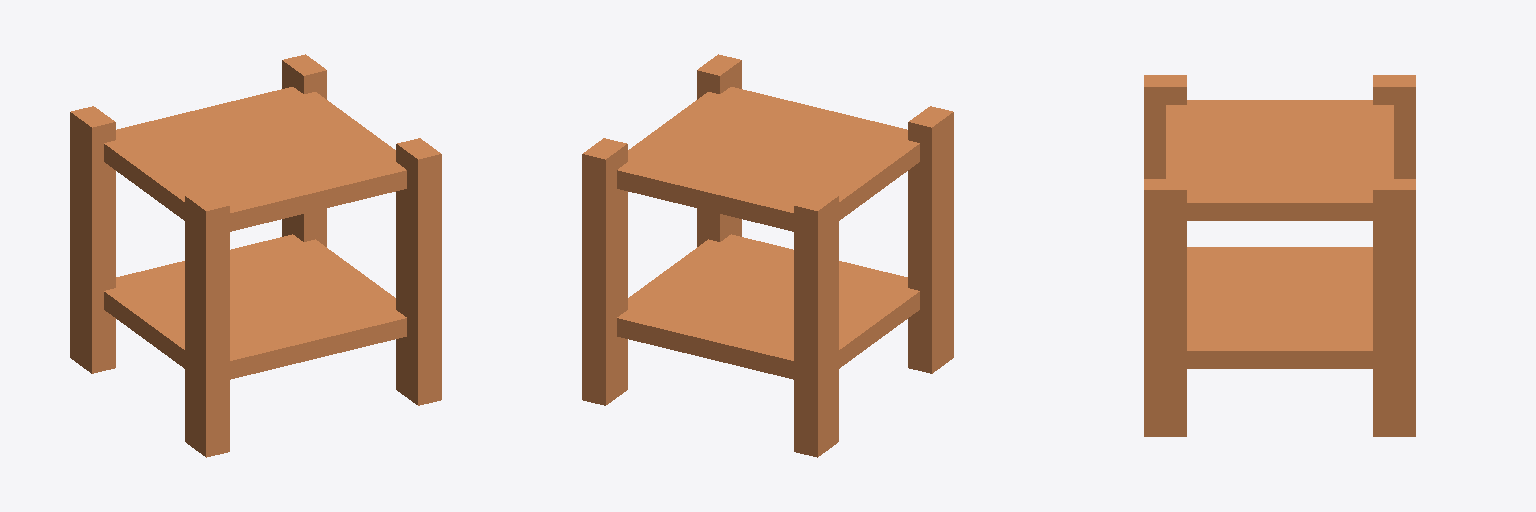
Rendered from bookcaseOpenLow.obj.
The picture shows the model from 3 angles: view 1: azimuth 30°, elevation 25°; view 2: azimuth 150°, elevation 25°; view 3: azimuth 270°, elevation 25°; orthographic projection.
Parts seen in each view (by area): view 1: bookcaseOpenLow; view 2: bookcaseOpenLow; view 3: bookcaseOpenLow.
Part boxes in pixels (left/top/right/bottom): bookcaseOpenLow: left=70, top=54, right=441, bottom=457; bookcaseOpenLow: left=582, top=54, right=953, bottom=457; bookcaseOpenLow: left=1144, top=75, right=1415, bottom=436.
Bounding box in the file's own units: 1.98 × 1.98 × 1.98.